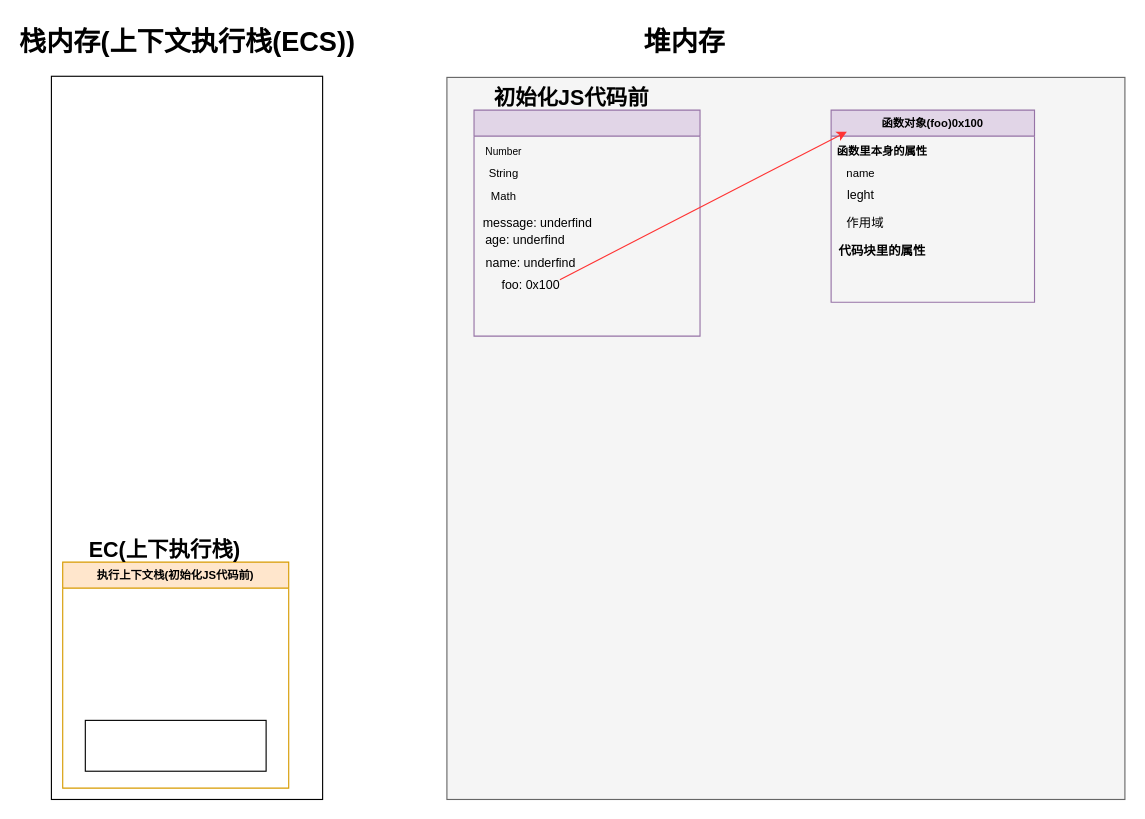
Some shapes in this 1145 by 819 pixel diagram are drawn without their labels. The box of each missing label's shape, as (x1, y1, x2, y2) in pixels:
this 作用域 VO: GO: (84, 719, 266, 771)
全局对象(GO): (473, 109, 700, 336)
